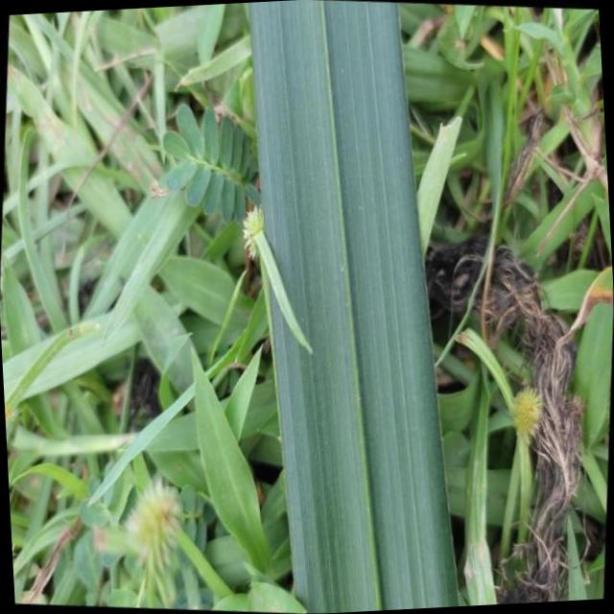Healthy: (245, 6, 462, 614)
